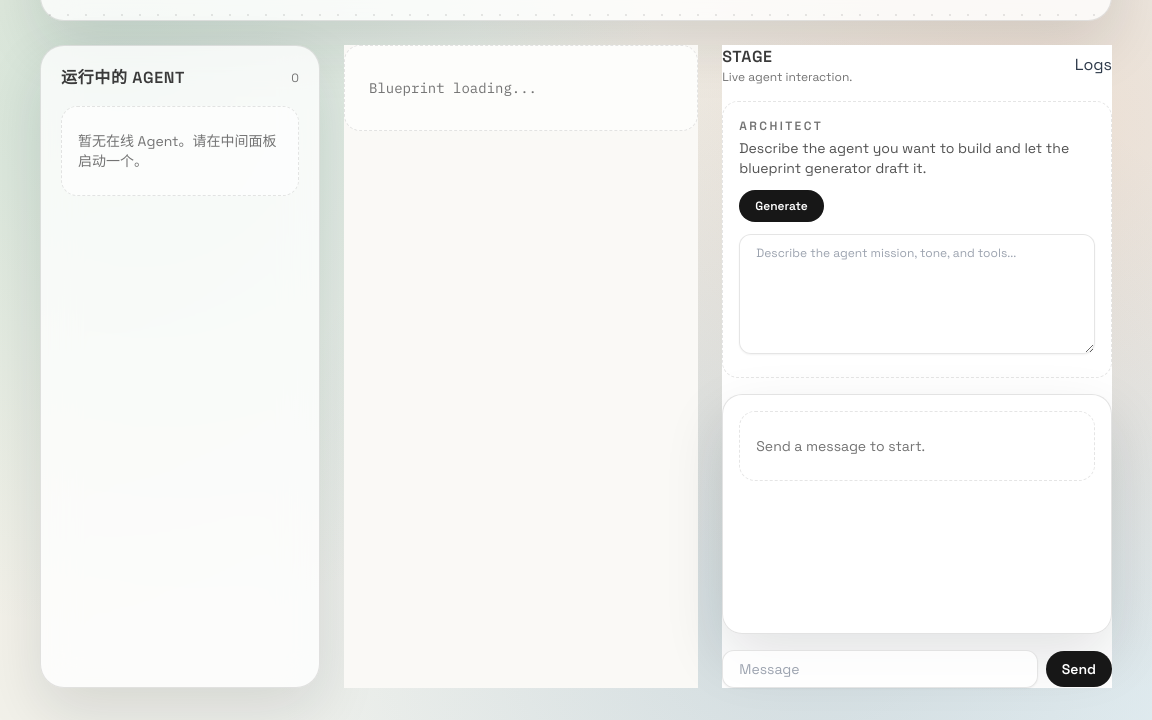
Test: handles /config and /restart slash commands
This screenshot has width=1152, height=720.
(page scrolled)
Type "/config" into the field with placeholder "Message" at [880, 669], box [722,650,1038,688]
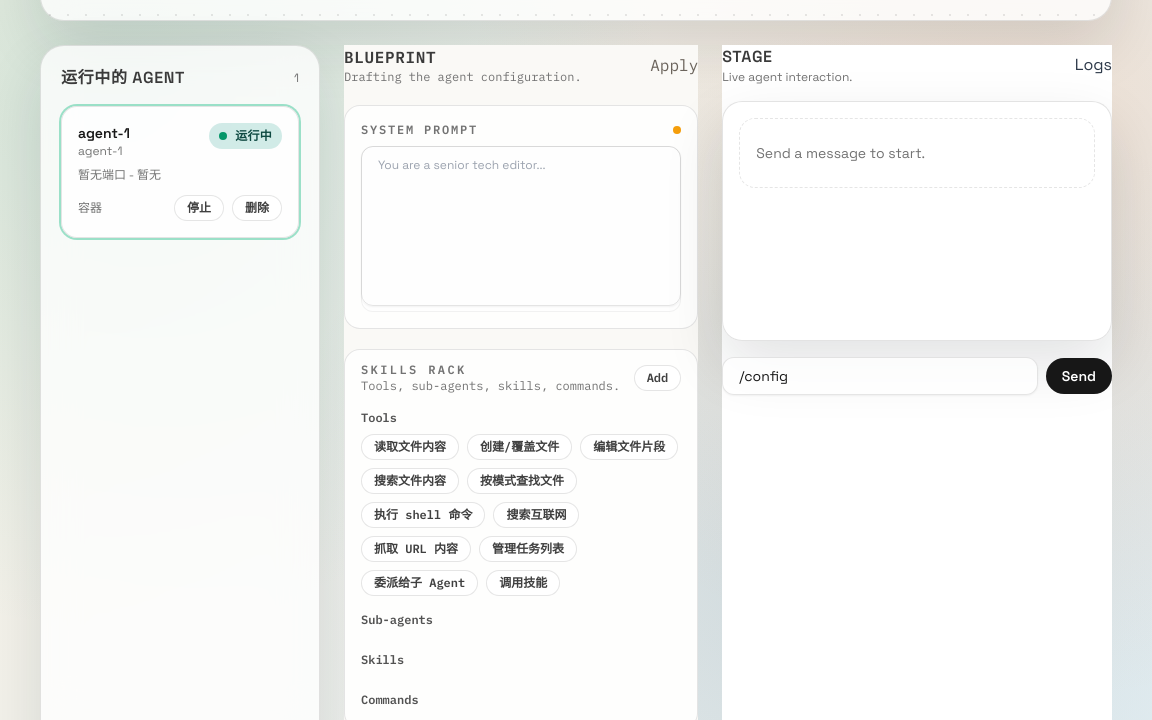
Click the button "Send" at [1079, 376], box [1046,358,1112,394]
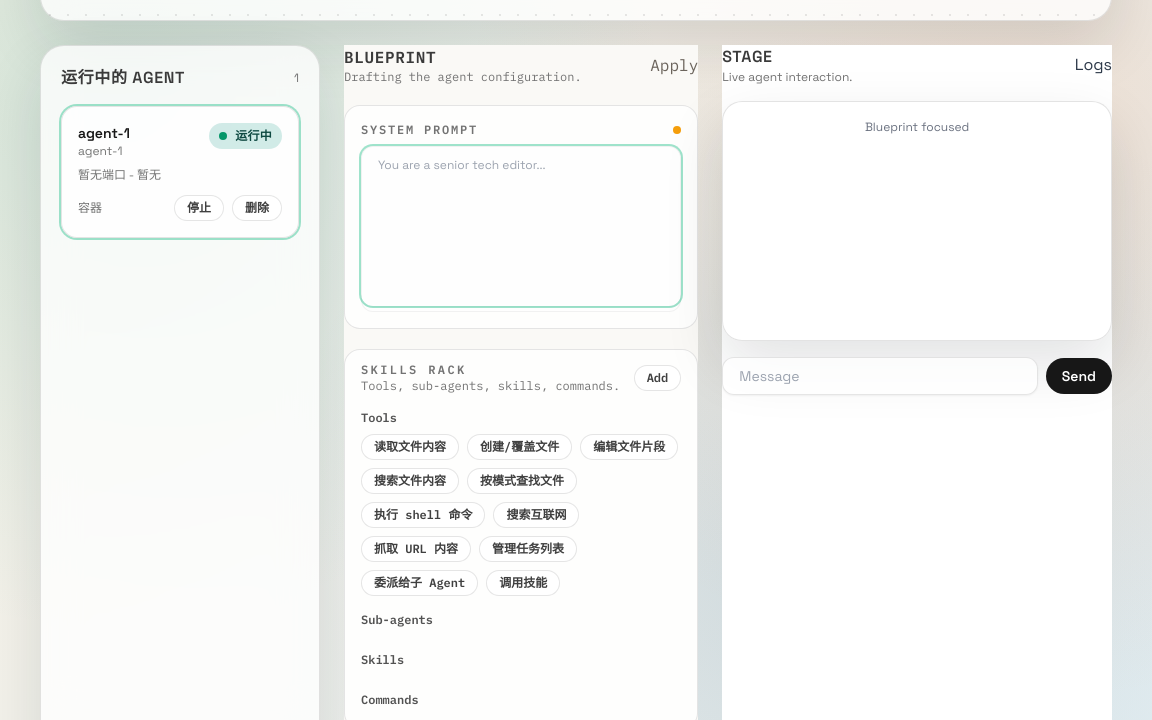
Result: the text "Blueprint focused" is shown at [865,119,969,135]
Type "/restart" into the field with placeholder "Message" at [880, 376], box [722,357,1038,395]
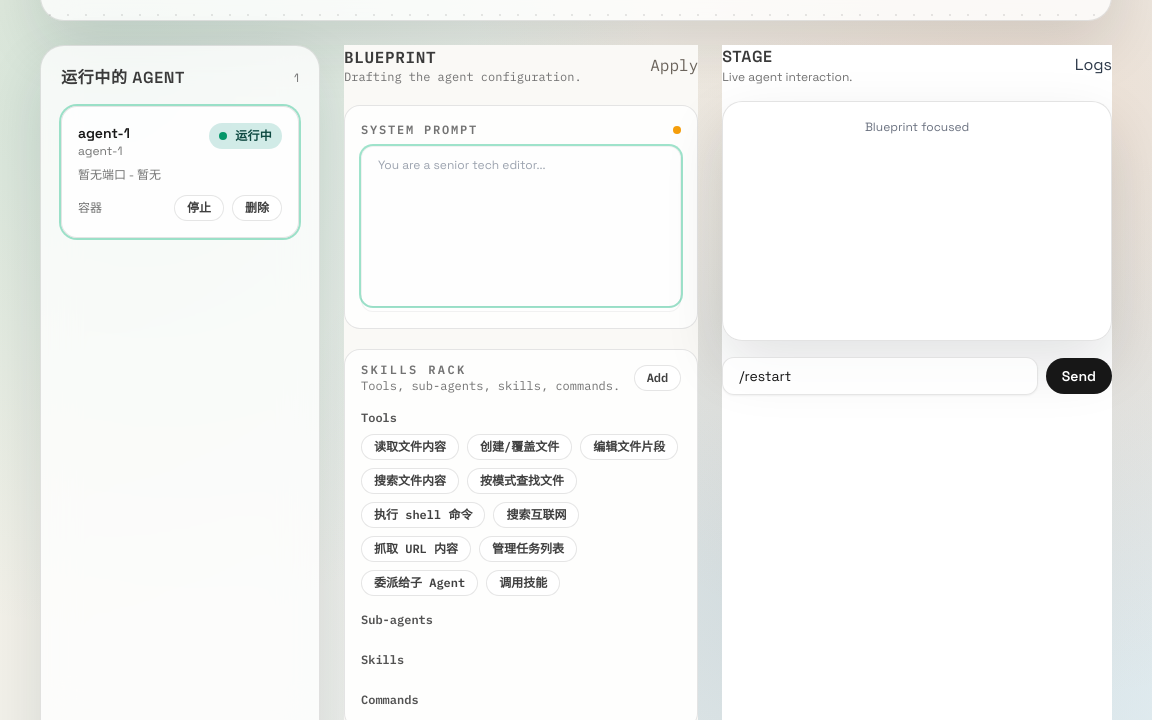
Click the button "Send" at [1079, 376], box [1046,358,1112,394]
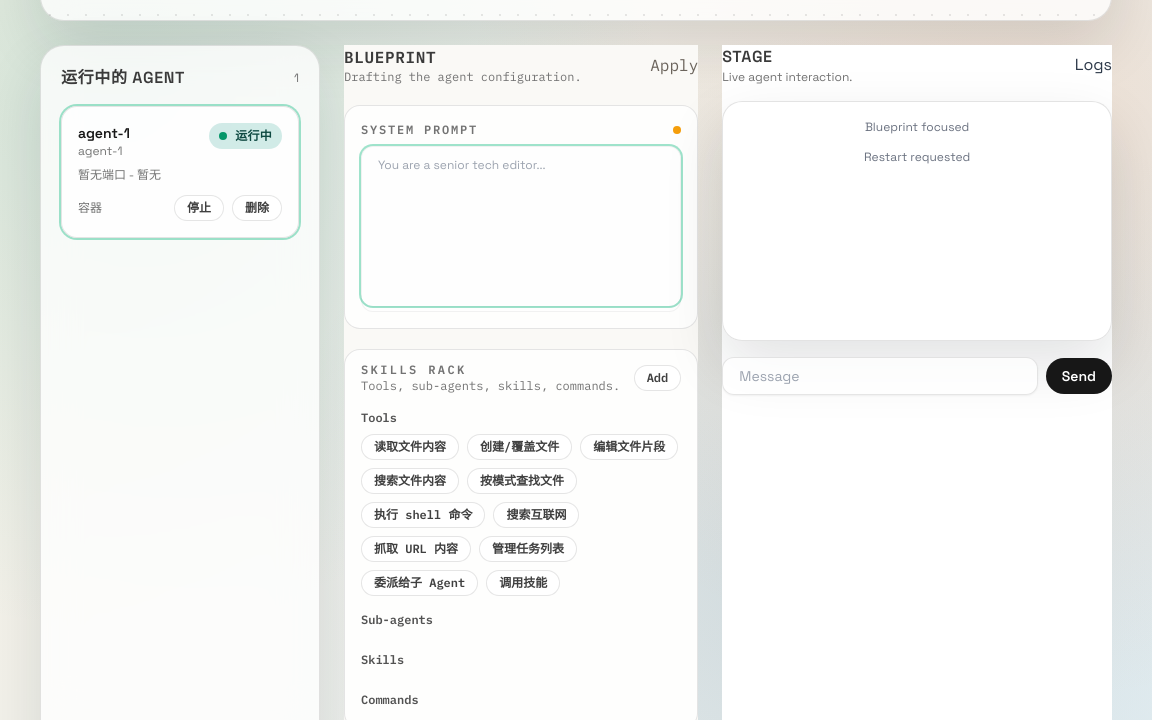
Result: the text "Restart requested" is shown at [864,149,970,165]
